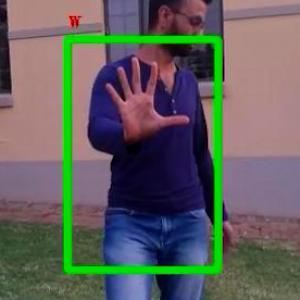follow_hand: (100, 50, 191, 147)
